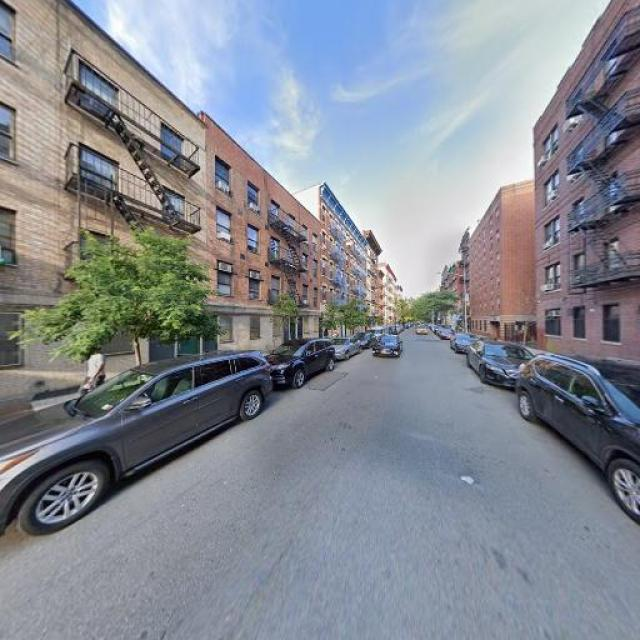Building: (1, 1, 320, 422), (539, 1, 640, 364)
